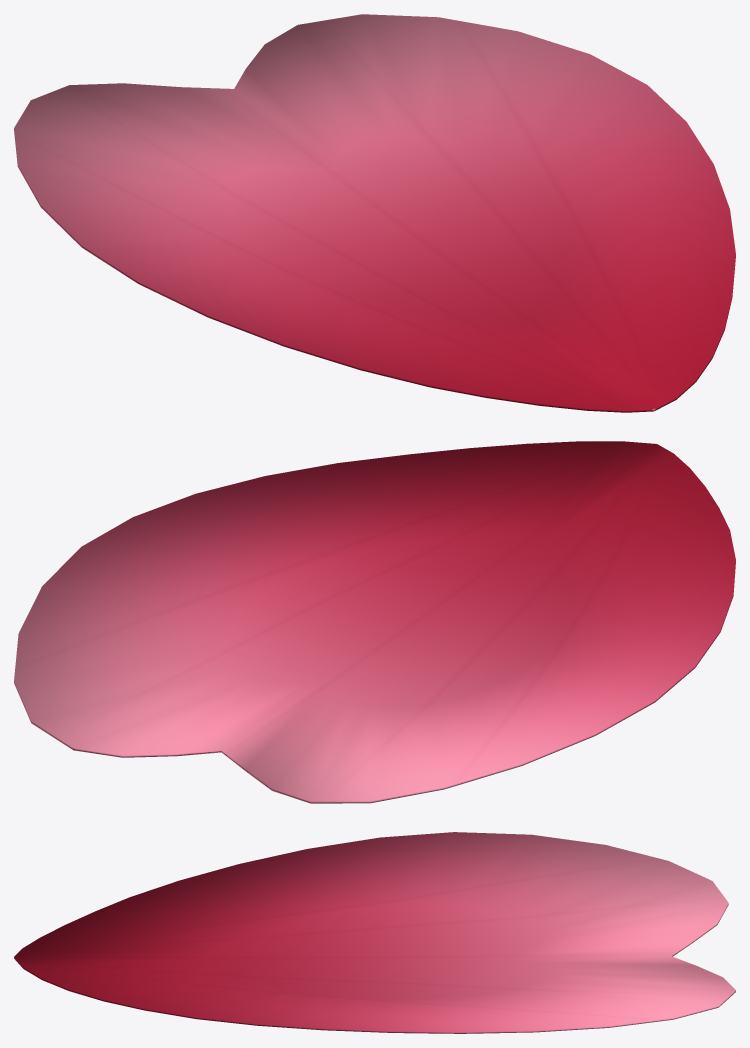
Rendered from SakuraPetal_Static.fbx.
The picture shows the model from 3 angles, top to bottom: view 1: azimuth 30°, elevation 25°; view 2: azimuth 150°, elevation 25°; view 3: azimuth 270°, elevation 25°; orthographic projection. The views are drawn at different scales.
Visible parts, largest first — view 1: SakuraPetal_Static; view 2: SakuraPetal_Static; view 3: SakuraPetal_Static.
Part boxes in pixels (box(x1,y1,x2,y2)): SakuraPetal_Static: box(14, 14, 735, 412); SakuraPetal_Static: box(14, 441, 735, 803); SakuraPetal_Static: box(14, 832, 735, 1033).
Size of the model in its own units: 0.035 by 0.00268 by 0.05.
